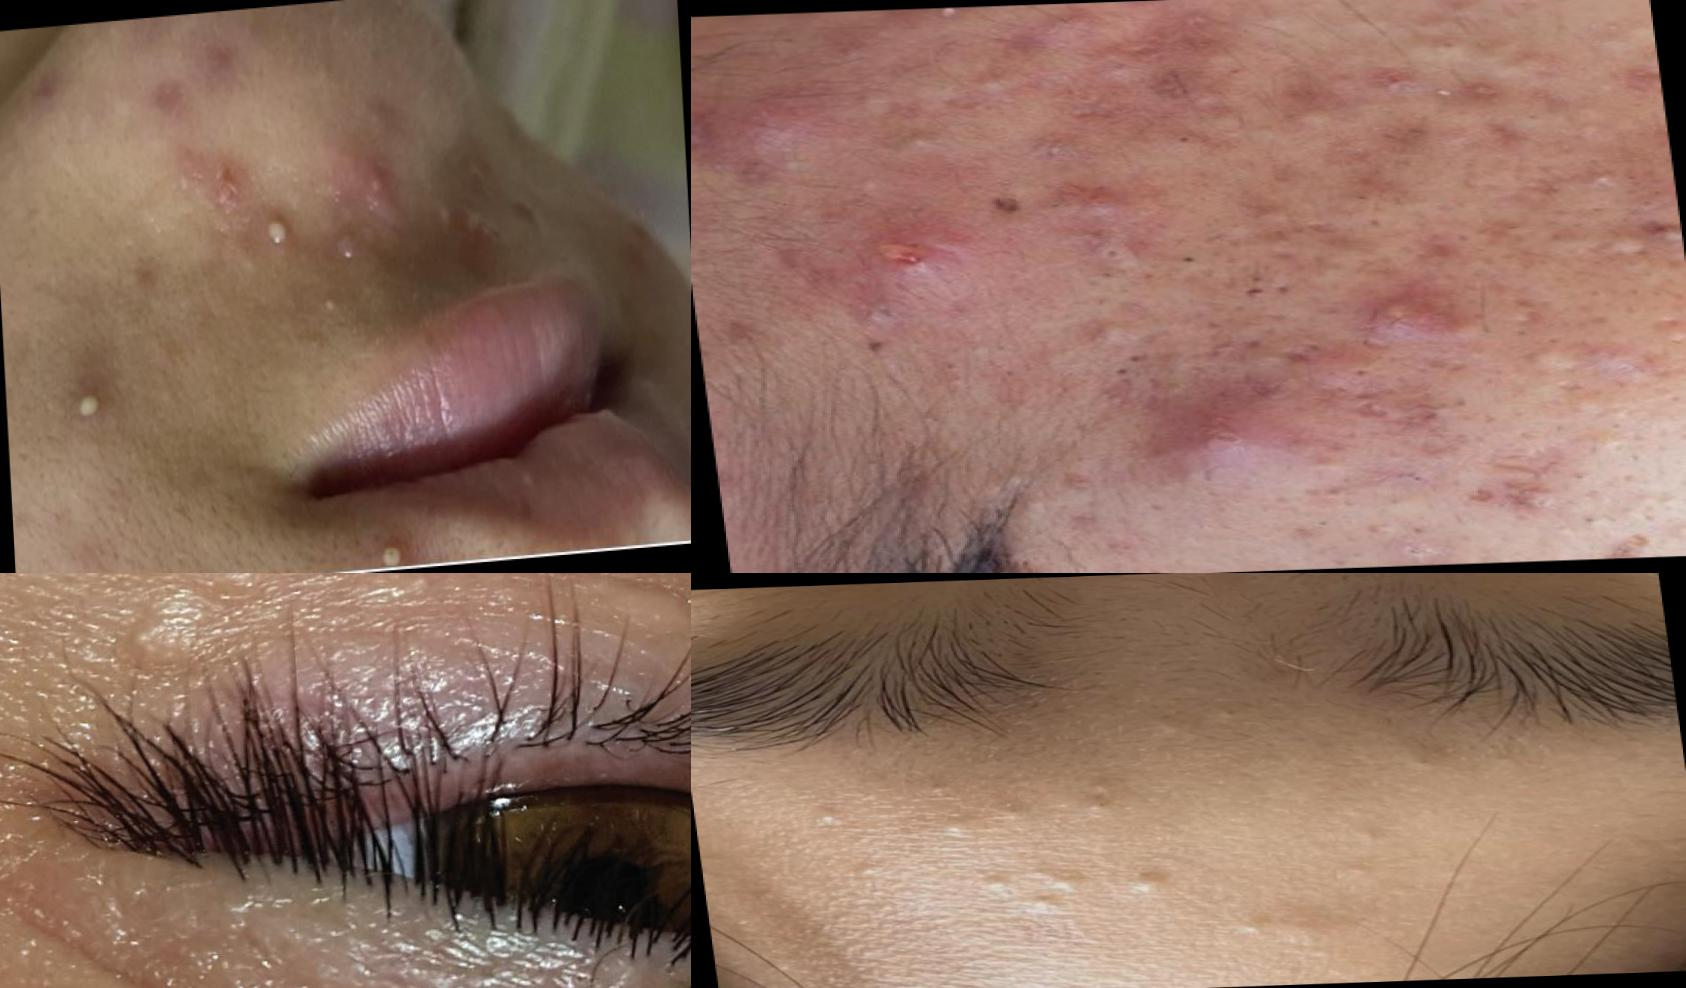blackhead: (1189, 326, 1336, 379), (1044, 231, 1145, 296), (1088, 346, 1162, 394), (1225, 263, 1289, 312), (1319, 173, 1379, 221), (1159, 233, 1216, 281), (1561, 505, 1617, 553), (1527, 456, 1595, 495), (1158, 122, 1222, 163), (1385, 513, 1456, 549), (905, 770, 981, 795), (1383, 741, 1443, 772), (1212, 689, 1263, 721)
papular: (1342, 273, 1463, 351), (837, 228, 984, 289), (1151, 410, 1294, 466), (702, 95, 797, 162)
purulent: (253, 180, 296, 263), (55, 378, 103, 438), (355, 147, 388, 212), (372, 526, 406, 569)
sebo-crystan-conglo: (428, 171, 509, 267)
syringoma: (27, 574, 587, 716), (611, 574, 693, 714)
whitehead: (1271, 88, 1357, 143), (954, 58, 1045, 102), (1496, 36, 1583, 84), (1389, 20, 1483, 61), (1021, 860, 1099, 906), (871, 123, 966, 156), (831, 855, 914, 892), (1070, 776, 1130, 822), (1580, 159, 1646, 196), (1269, 939, 1346, 969), (303, 278, 347, 332), (777, 803, 858, 832), (1006, 893, 1085, 921), (1115, 861, 1183, 892), (925, 810, 991, 839), (1353, 815, 1398, 852), (1329, 860, 1393, 884), (1215, 912, 1256, 948), (978, 867, 1017, 894)
